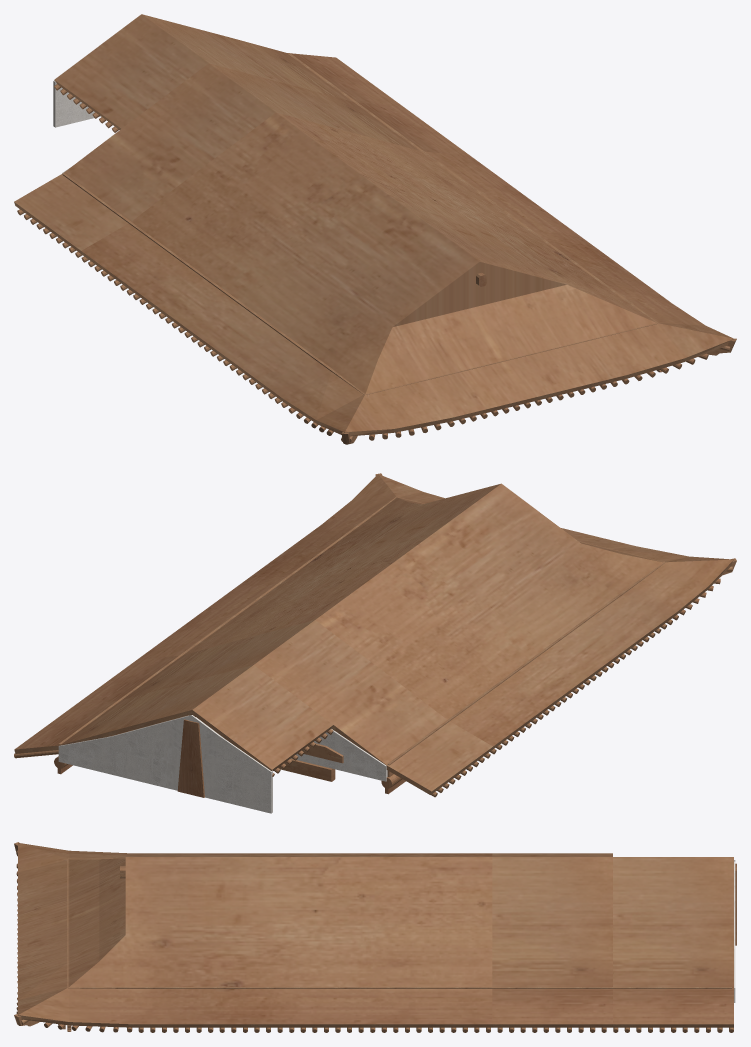
Rendered from SM_Unhyun_Noan_Ceiling_A001.FBX.
3 views of the same model, one above another, from view 1: azimuth 30°, elevation 25°; view 2: azimuth 150°, elevation 25°; view 3: azimuth 270°, elevation 25° (orthographic). The views are drawn at different scales.
Visible parts, largest first — view 1: SM_Unhyun_Noan_Ceiling_A001; view 2: SM_Unhyun_Noan_Ceiling_A001; view 3: SM_Unhyun_Noan_Ceiling_A001.
Part boxes in pixels (box(x1,y1,x2,y2)): SM_Unhyun_Noan_Ceiling_A001: box(14, 14, 736, 444); SM_Unhyun_Noan_Ceiling_A001: box(14, 473, 736, 813); SM_Unhyun_Noan_Ceiling_A001: box(14, 842, 736, 1032).
Size of what is drawn, in the model's own units: 887 by 1562 by 256.
